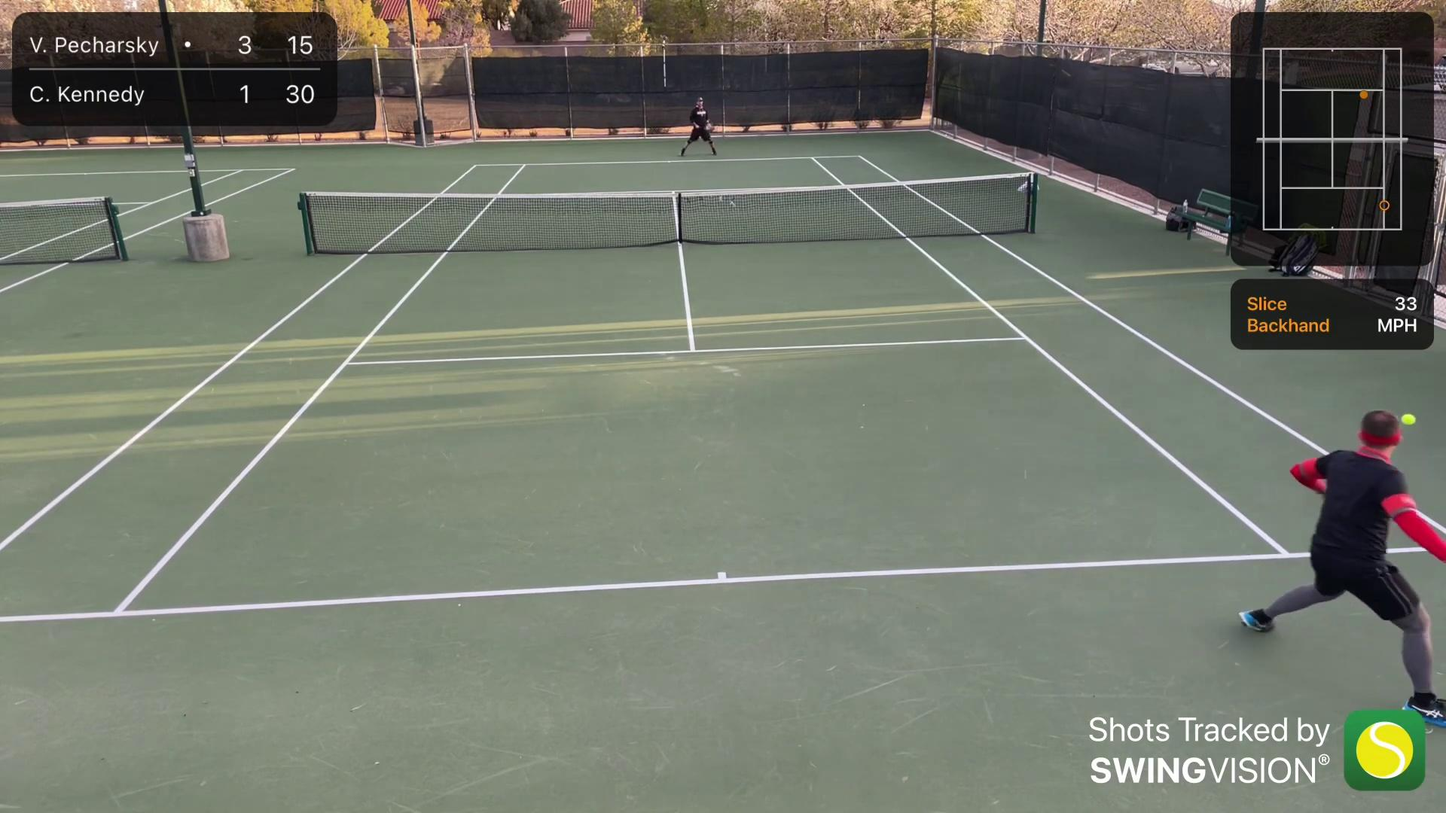ball: (1401, 412, 1417, 427)
